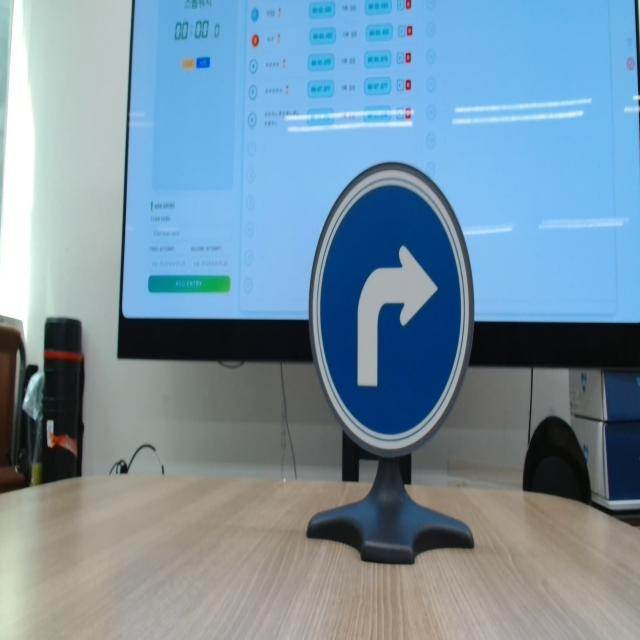right_dierection: (306, 158, 480, 459)
